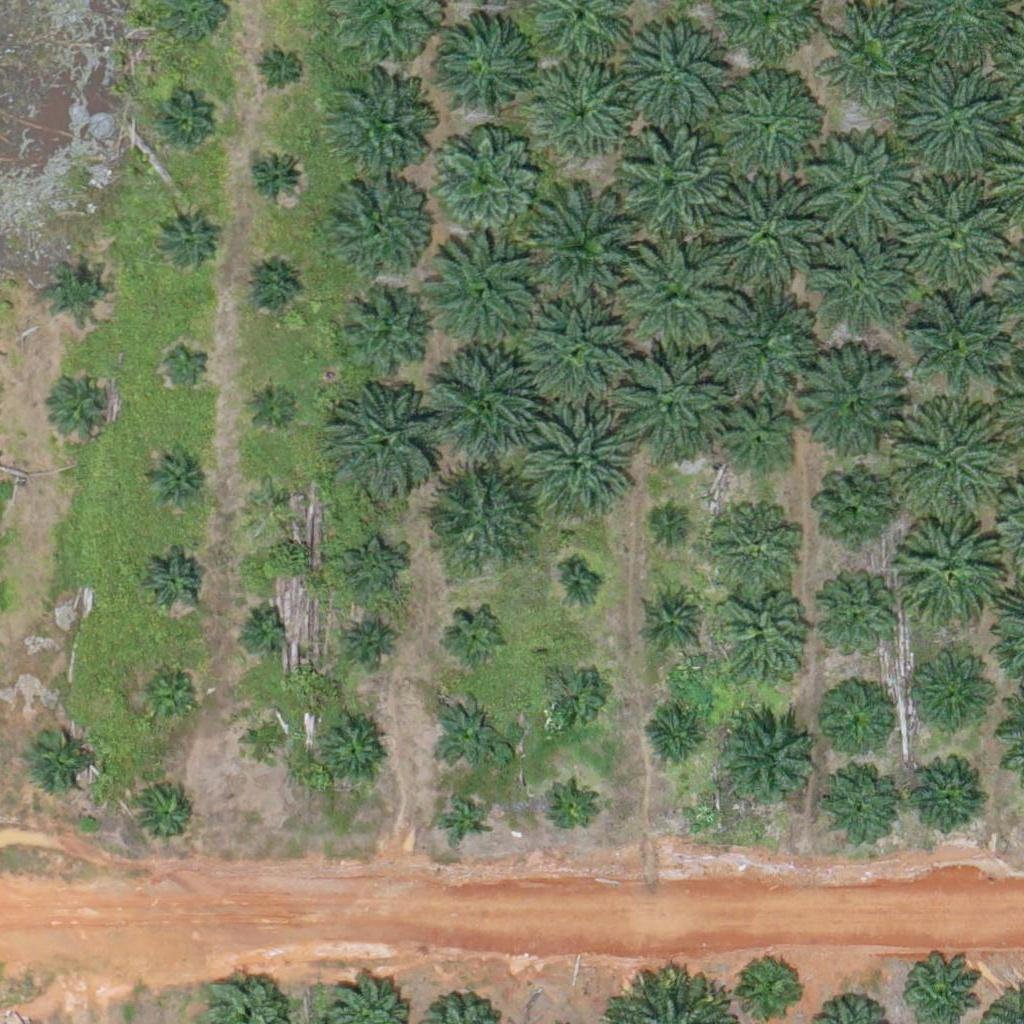Kelapa_Sawit: (524, 186, 649, 312), (322, 380, 447, 506), (519, 294, 632, 408), (429, 239, 542, 353), (427, 124, 540, 238), (889, 511, 1002, 624), (792, 351, 905, 464), (710, 179, 823, 292), (696, 280, 809, 393), (517, 403, 630, 516), (430, 345, 543, 458), (421, 460, 534, 573), (807, 131, 920, 244), (610, 340, 722, 454), (324, 75, 436, 189), (892, 401, 1004, 514), (621, 238, 733, 351), (897, 62, 1009, 175), (896, 174, 1008, 287), (616, 128, 728, 241), (906, 298, 1006, 399), (715, 710, 815, 811), (718, 76, 818, 177), (625, 21, 725, 122), (330, 173, 430, 274), (534, 63, 634, 163), (438, 17, 538, 117), (710, 501, 798, 589), (718, 595, 806, 683), (340, 290, 428, 378), (828, 13, 915, 102), (904, 648, 991, 736), (815, 245, 902, 333), (26, 722, 101, 798), (818, 471, 893, 547), (912, 764, 987, 840), (820, 586, 895, 662), (823, 768, 898, 844), (716, 404, 791, 480), (315, 712, 390, 787), (431, 694, 506, 769), (56, 373, 119, 436), (45, 257, 108, 320), (154, 96, 217, 159), (143, 445, 206, 508), (143, 550, 206, 613), (820, 691, 883, 754), (136, 782, 199, 845), (644, 709, 707, 772), (741, 956, 804, 1019), (539, 664, 602, 727), (136, 664, 199, 727), (244, 146, 307, 209), (155, 207, 217, 270), (343, 537, 405, 600), (447, 606, 509, 669), (241, 258, 303, 321), (545, 786, 595, 837), (349, 615, 399, 666), (438, 795, 488, 846), (247, 375, 297, 426), (246, 472, 296, 523), (236, 601, 286, 652), (162, 337, 212, 388), (647, 594, 697, 644), (240, 717, 290, 767), (256, 45, 306, 95), (655, 505, 693, 543), (560, 567, 597, 605)
